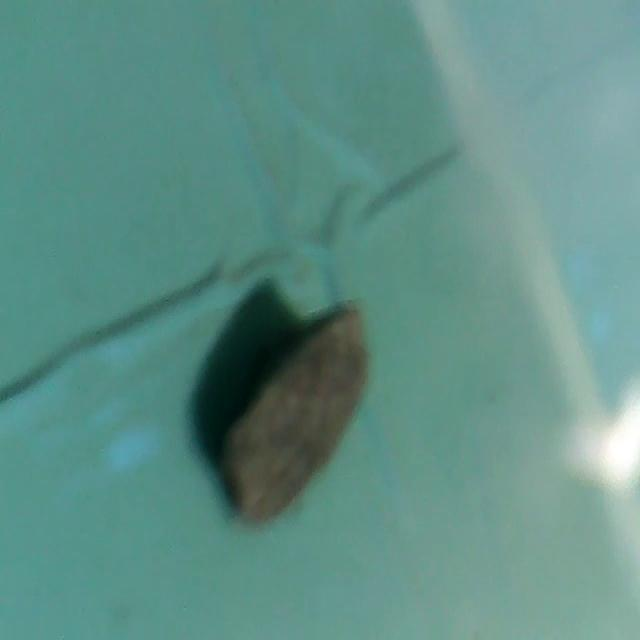rock: (214, 285, 370, 539)
